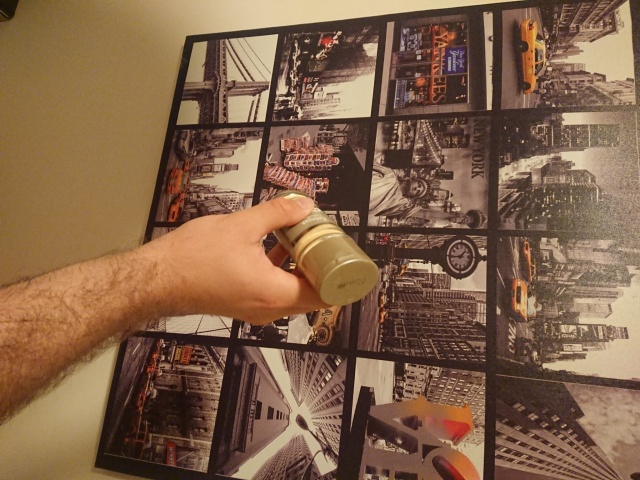Kotanyi Garlic Granules 70g: (263, 189, 384, 309)
